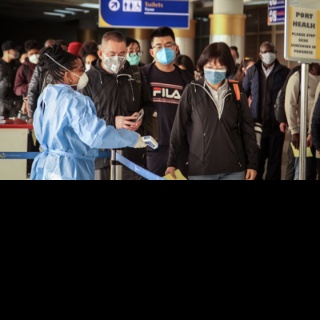with_mask: (153, 40, 176, 66), (102, 49, 126, 73), (203, 62, 227, 86), (71, 64, 88, 88), (126, 46, 142, 65), (261, 48, 276, 64), (28, 51, 40, 64)
